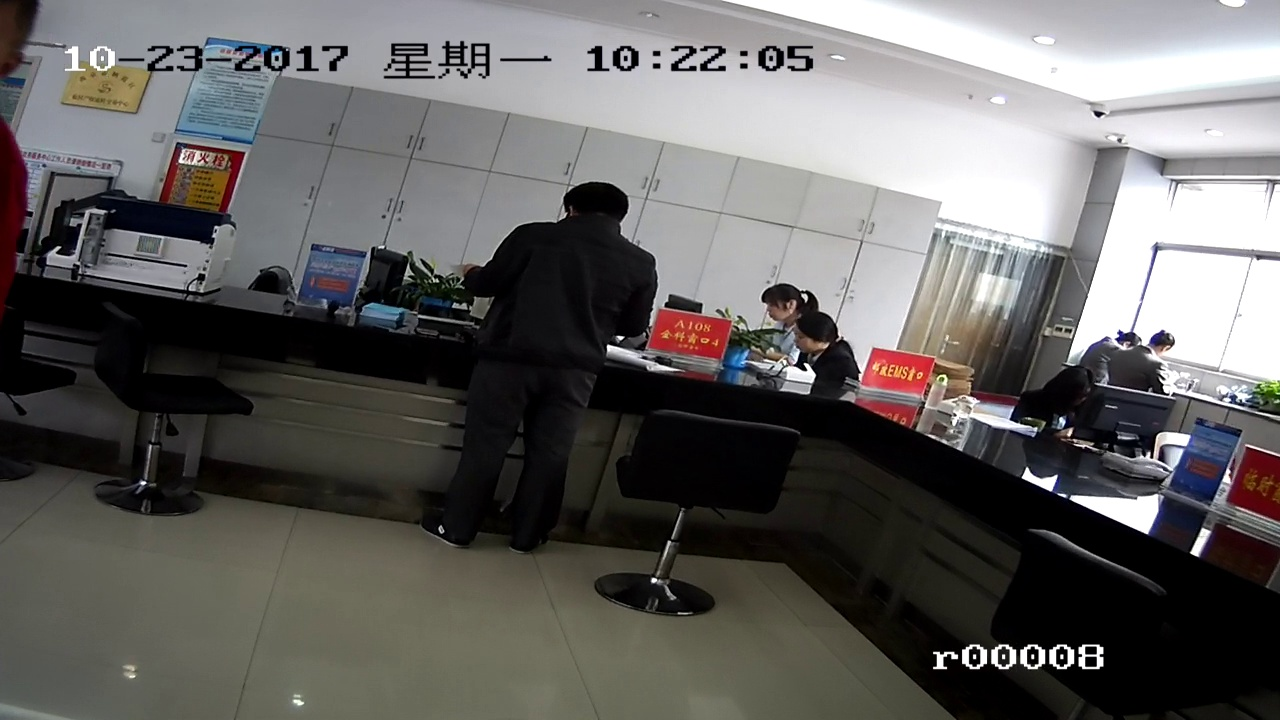billboard: (188, 37, 265, 140), (651, 309, 732, 356), (870, 348, 940, 400)
chair: (619, 404, 800, 626), (94, 314, 252, 526)
person: (481, 167, 631, 564), (750, 274, 816, 332), (797, 313, 849, 384), (1037, 359, 1091, 422), (1133, 321, 1184, 375), (1090, 323, 1145, 372)
pot: (414, 261, 458, 313), (1255, 379, 1278, 421)
